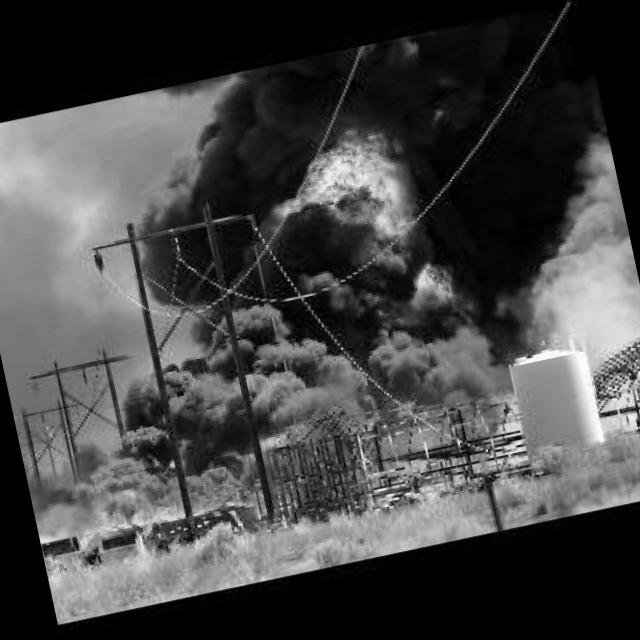fire: (266, 114, 488, 344), (74, 484, 268, 554), (382, 386, 437, 426)
smoke: (99, 304, 514, 463), (133, 194, 403, 373), (476, 117, 640, 384), (81, 68, 275, 246), (61, 430, 282, 534)
